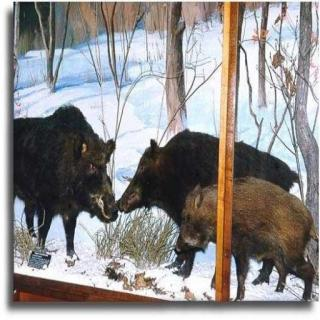Pig: (116, 85, 315, 263), (18, 78, 124, 279), (167, 159, 320, 294)
